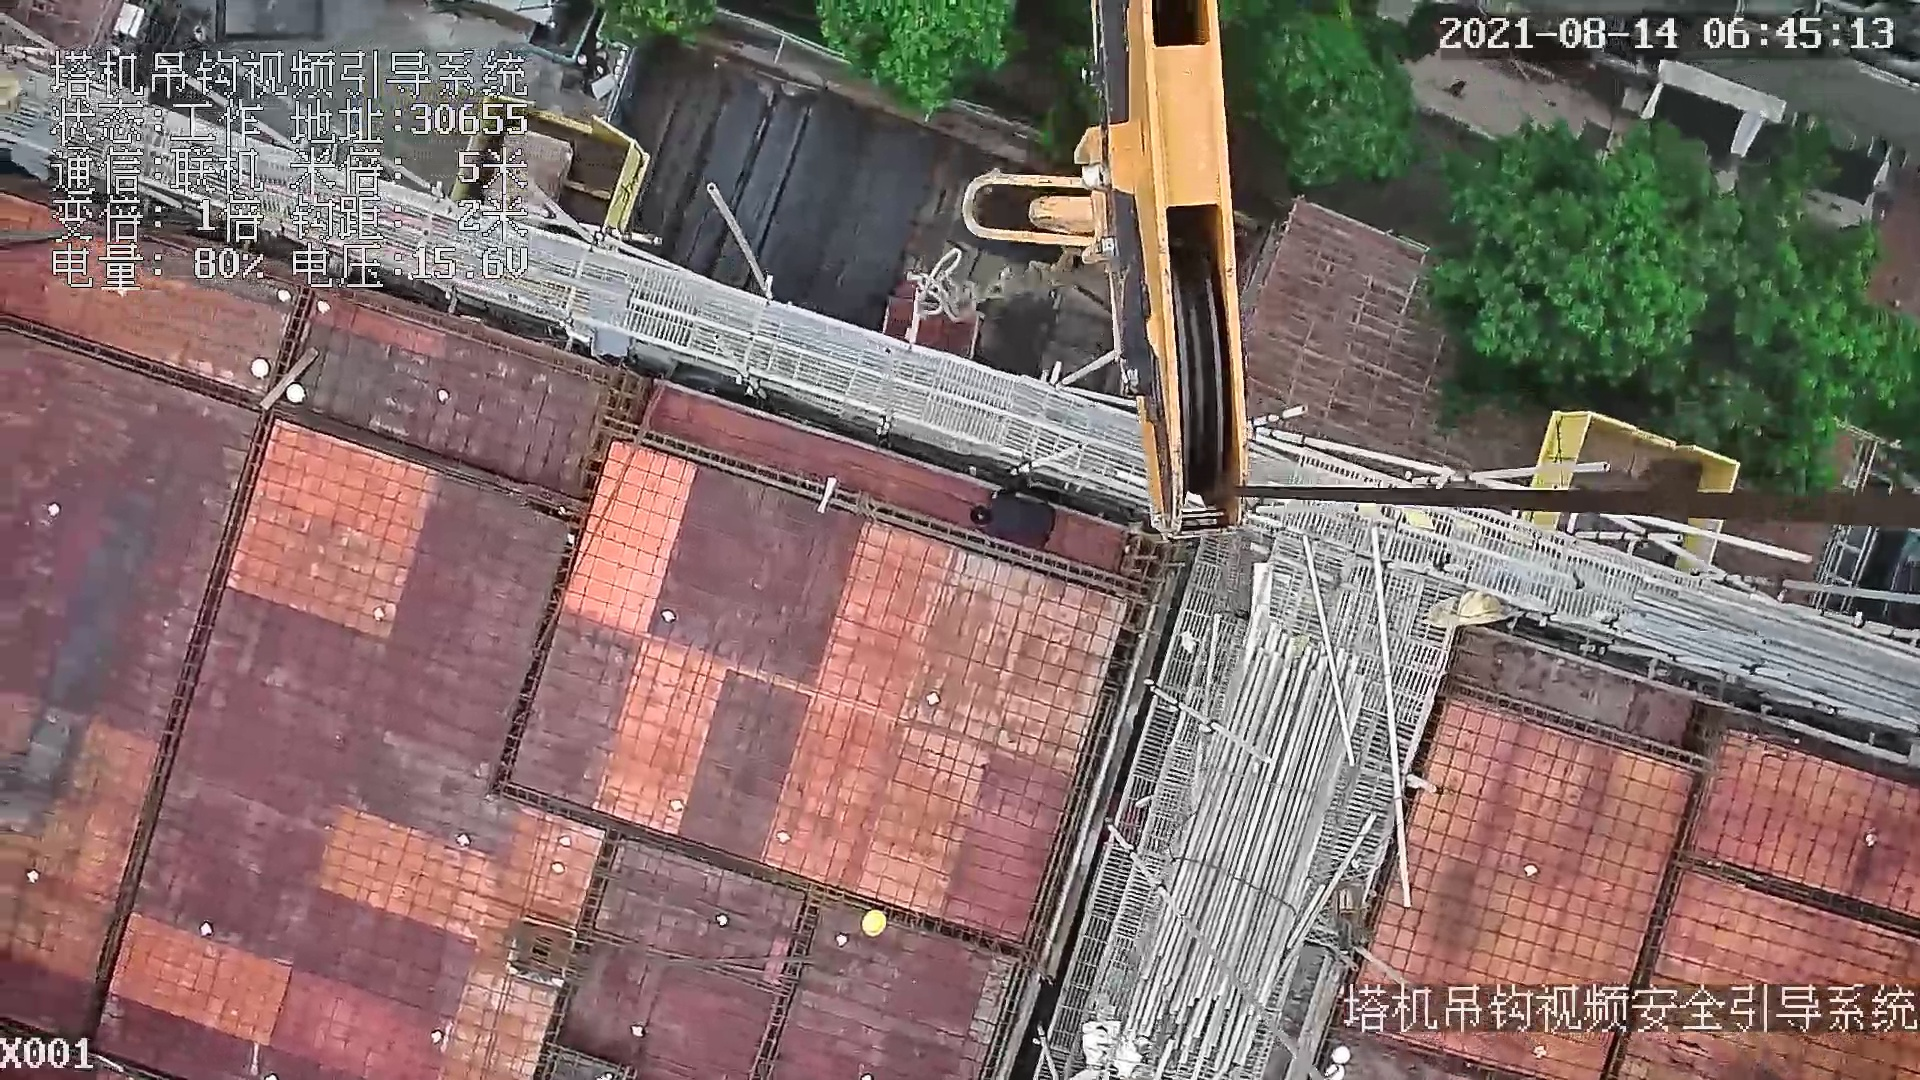helmet: (860, 908, 892, 935)
hook: (955, 1, 1258, 530)
person: (971, 487, 1058, 545)
